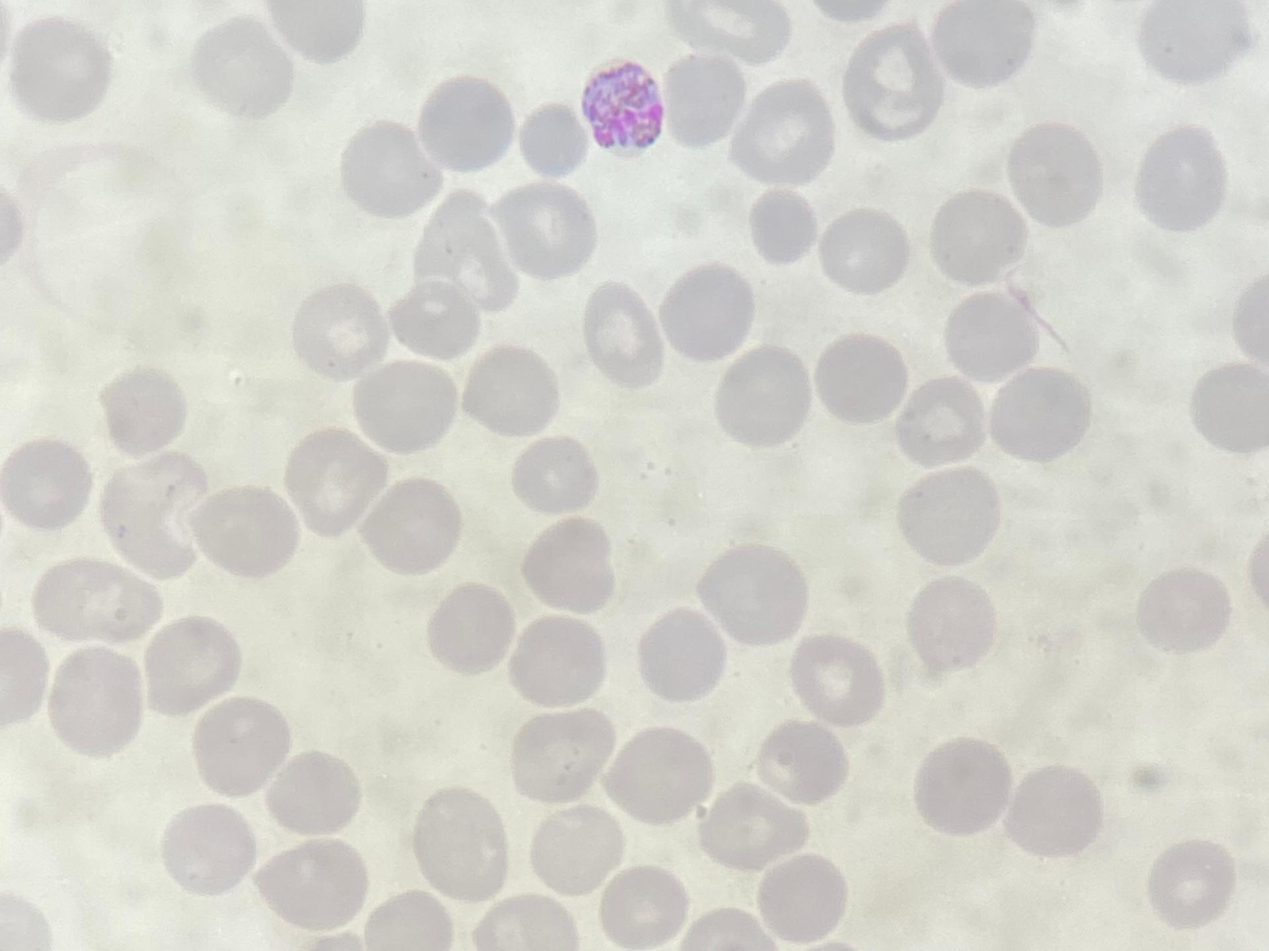Infected: (578, 57, 662, 154)
Uninfected: (97, 455, 212, 576), (412, 194, 520, 317), (841, 25, 944, 142), (31, 555, 161, 647), (44, 644, 147, 757), (697, 541, 807, 645), (600, 724, 712, 825), (412, 787, 512, 899), (188, 484, 301, 581), (284, 428, 388, 533), (253, 837, 369, 931), (734, 78, 835, 185), (189, 694, 292, 796), (190, 17, 294, 118), (9, 17, 110, 120), (492, 180, 596, 280), (360, 476, 465, 575), (712, 343, 811, 446), (895, 465, 998, 564), (697, 780, 807, 872), (144, 617, 245, 716), (352, 357, 455, 454), (511, 708, 615, 804), (913, 739, 1013, 838), (988, 365, 1089, 463), (1007, 121, 1102, 225), (416, 74, 515, 173), (1135, 124, 1227, 230), (506, 612, 608, 706), (159, 801, 257, 898), (339, 119, 438, 215), (658, 263, 754, 361), (290, 282, 386, 379), (461, 344, 560, 438), (906, 576, 1000, 675), (264, 745, 364, 838), (1137, 0, 1249, 83), (521, 515, 617, 611), (929, 189, 1026, 283), (1003, 764, 1101, 857), (814, 332, 909, 426), (942, 286, 1037, 380), (931, 1, 1033, 88), (788, 633, 883, 726), (755, 851, 850, 944), (529, 805, 626, 896), (1, 437, 93, 531), (894, 373, 988, 465), (386, 280, 484, 368), (636, 608, 728, 701), (426, 582, 516, 677), (758, 718, 853, 808), (582, 281, 665, 384), (1134, 566, 1231, 654), (1146, 839, 1237, 928), (98, 365, 190, 453), (666, 52, 750, 144), (817, 208, 907, 293), (668, 1, 788, 63), (599, 866, 689, 948), (1188, 361, 1267, 454), (512, 434, 599, 516), (748, 186, 822, 266), (518, 102, 589, 178), (0, 628, 50, 728)
